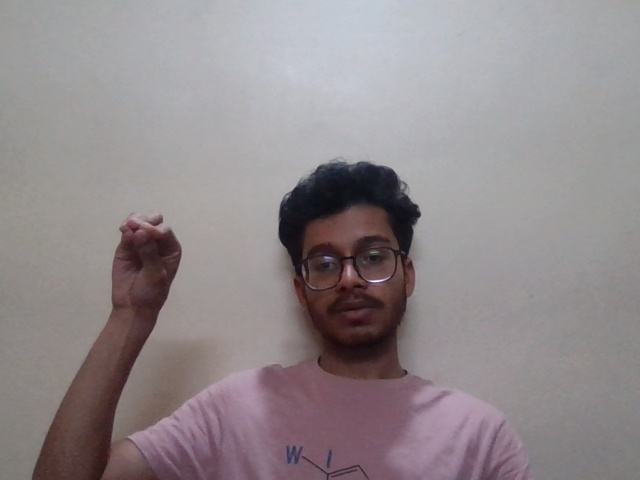talk: (97, 206, 210, 333)
